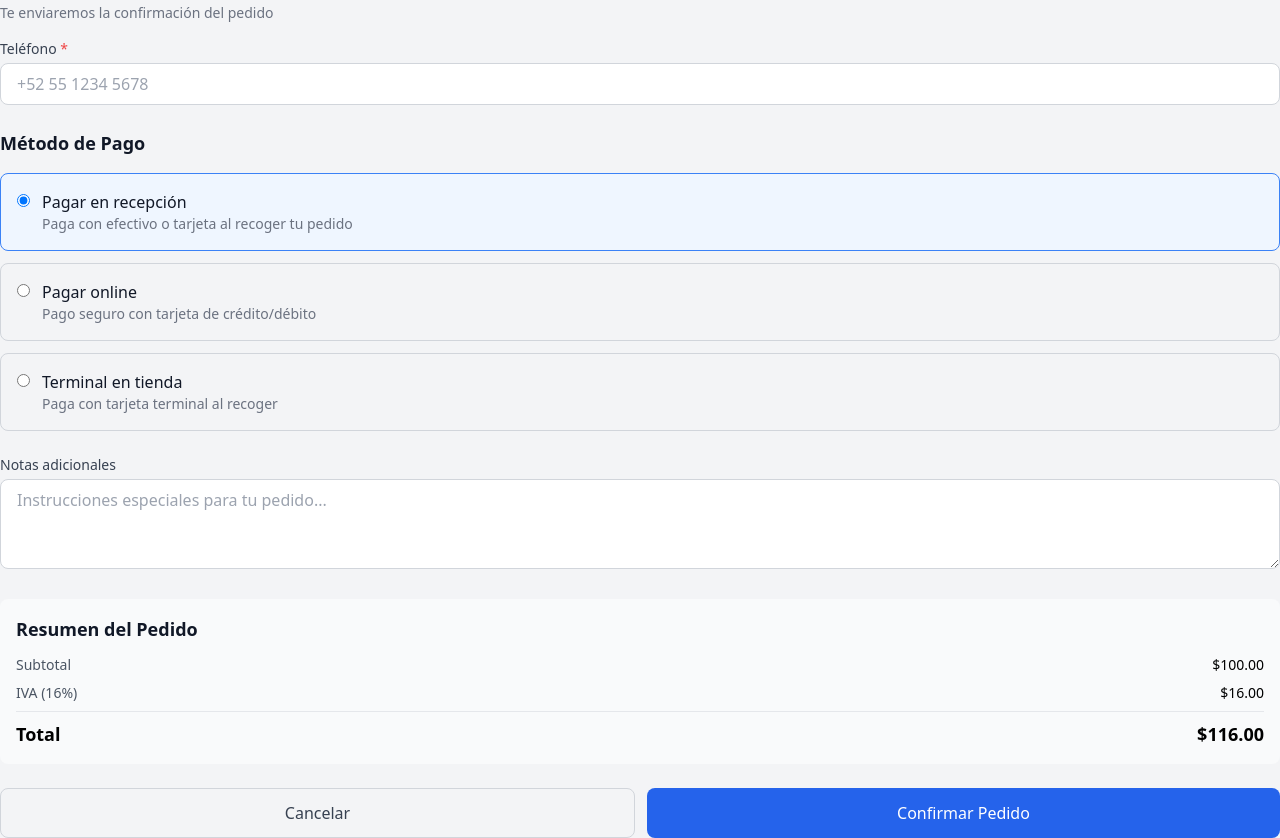
it: CheckoutForm › should clear error when user starts typing
This screenshot has width=1280, height=838.
(page scrolled)
Note: Submit to trigger errors
Click the button "Confirmar Pedido": (964, 813) [647,788,1279,837]
(page scrolled)
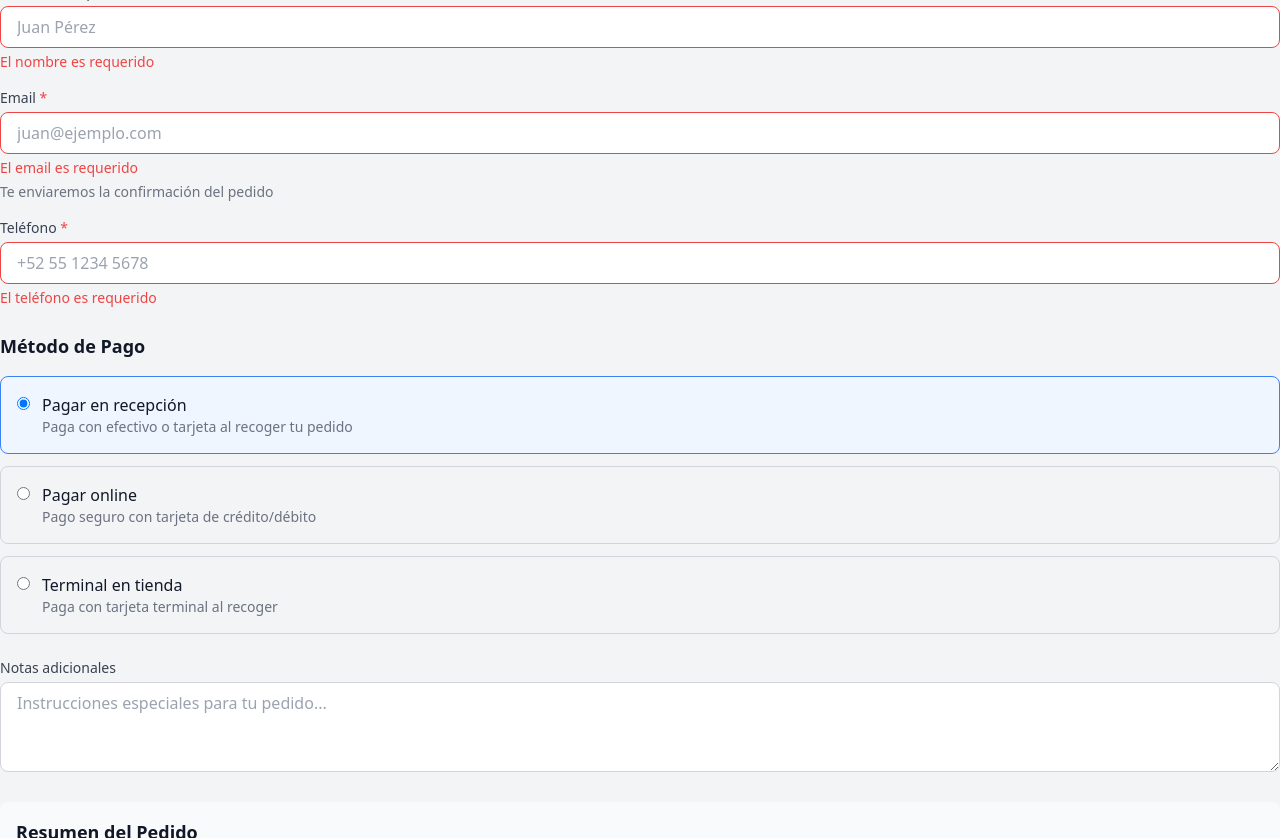
Now the text "El nombre es requerido" is shown, box [0,52,154,71]
Note: Start typing in name field
In the field labelled "Nombre completo *": (640, 27) [0,6,1279,48], type "Juan"
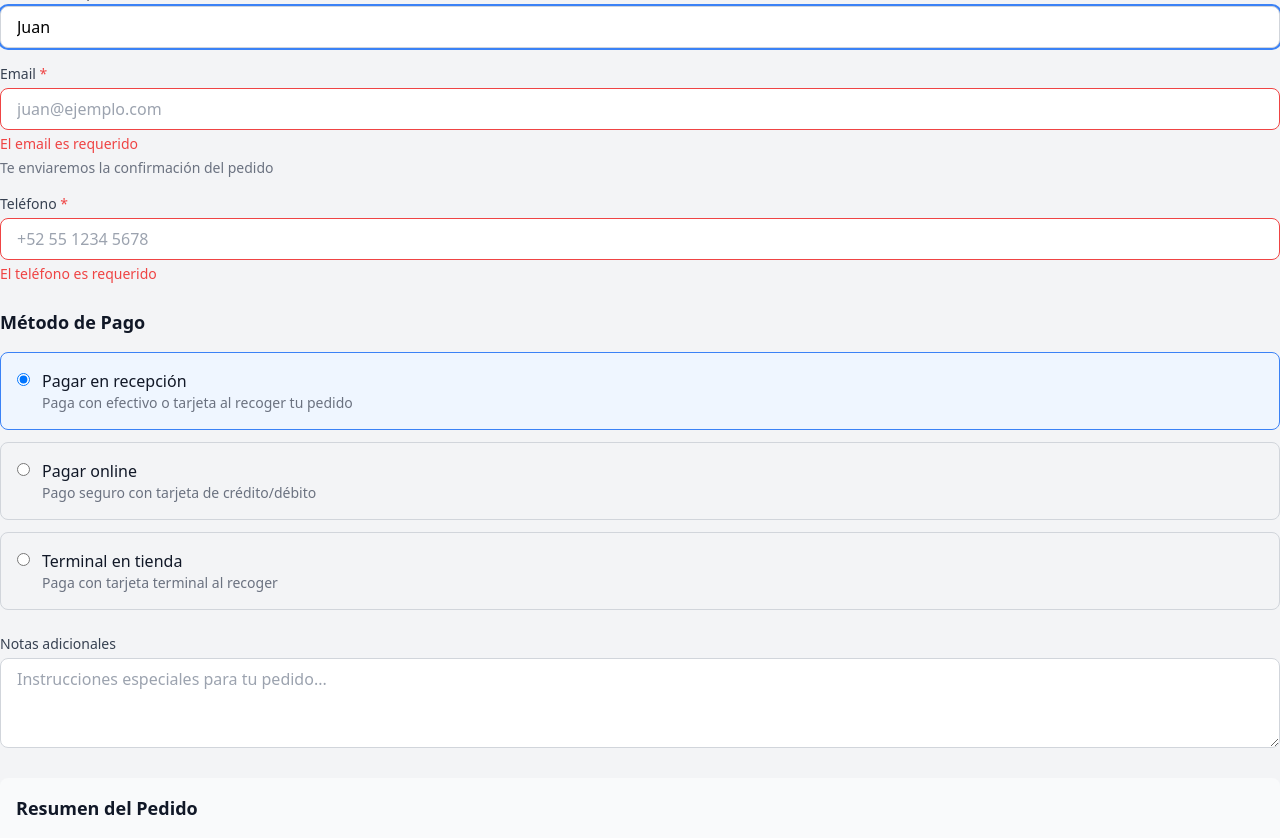
Now the text "El nombre es requerido" is gone
